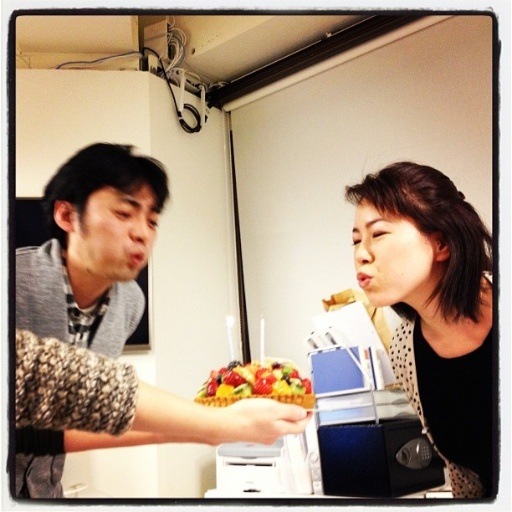hand: (222, 397, 312, 444)
